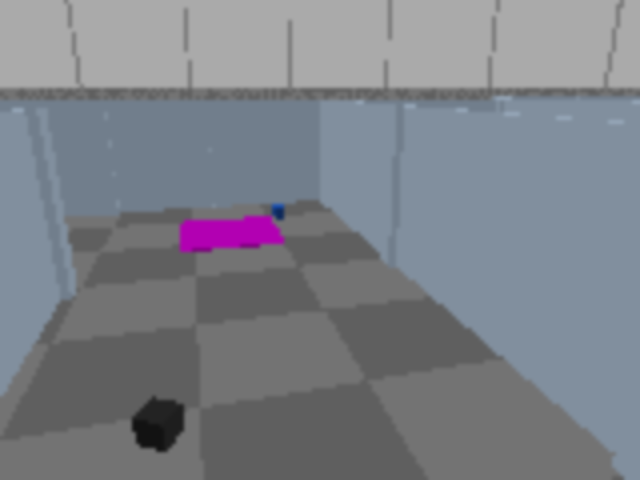goal_zone: (178, 216, 286, 253)
person: (0, 0, 19, 307)
puck: (132, 397, 185, 453)
